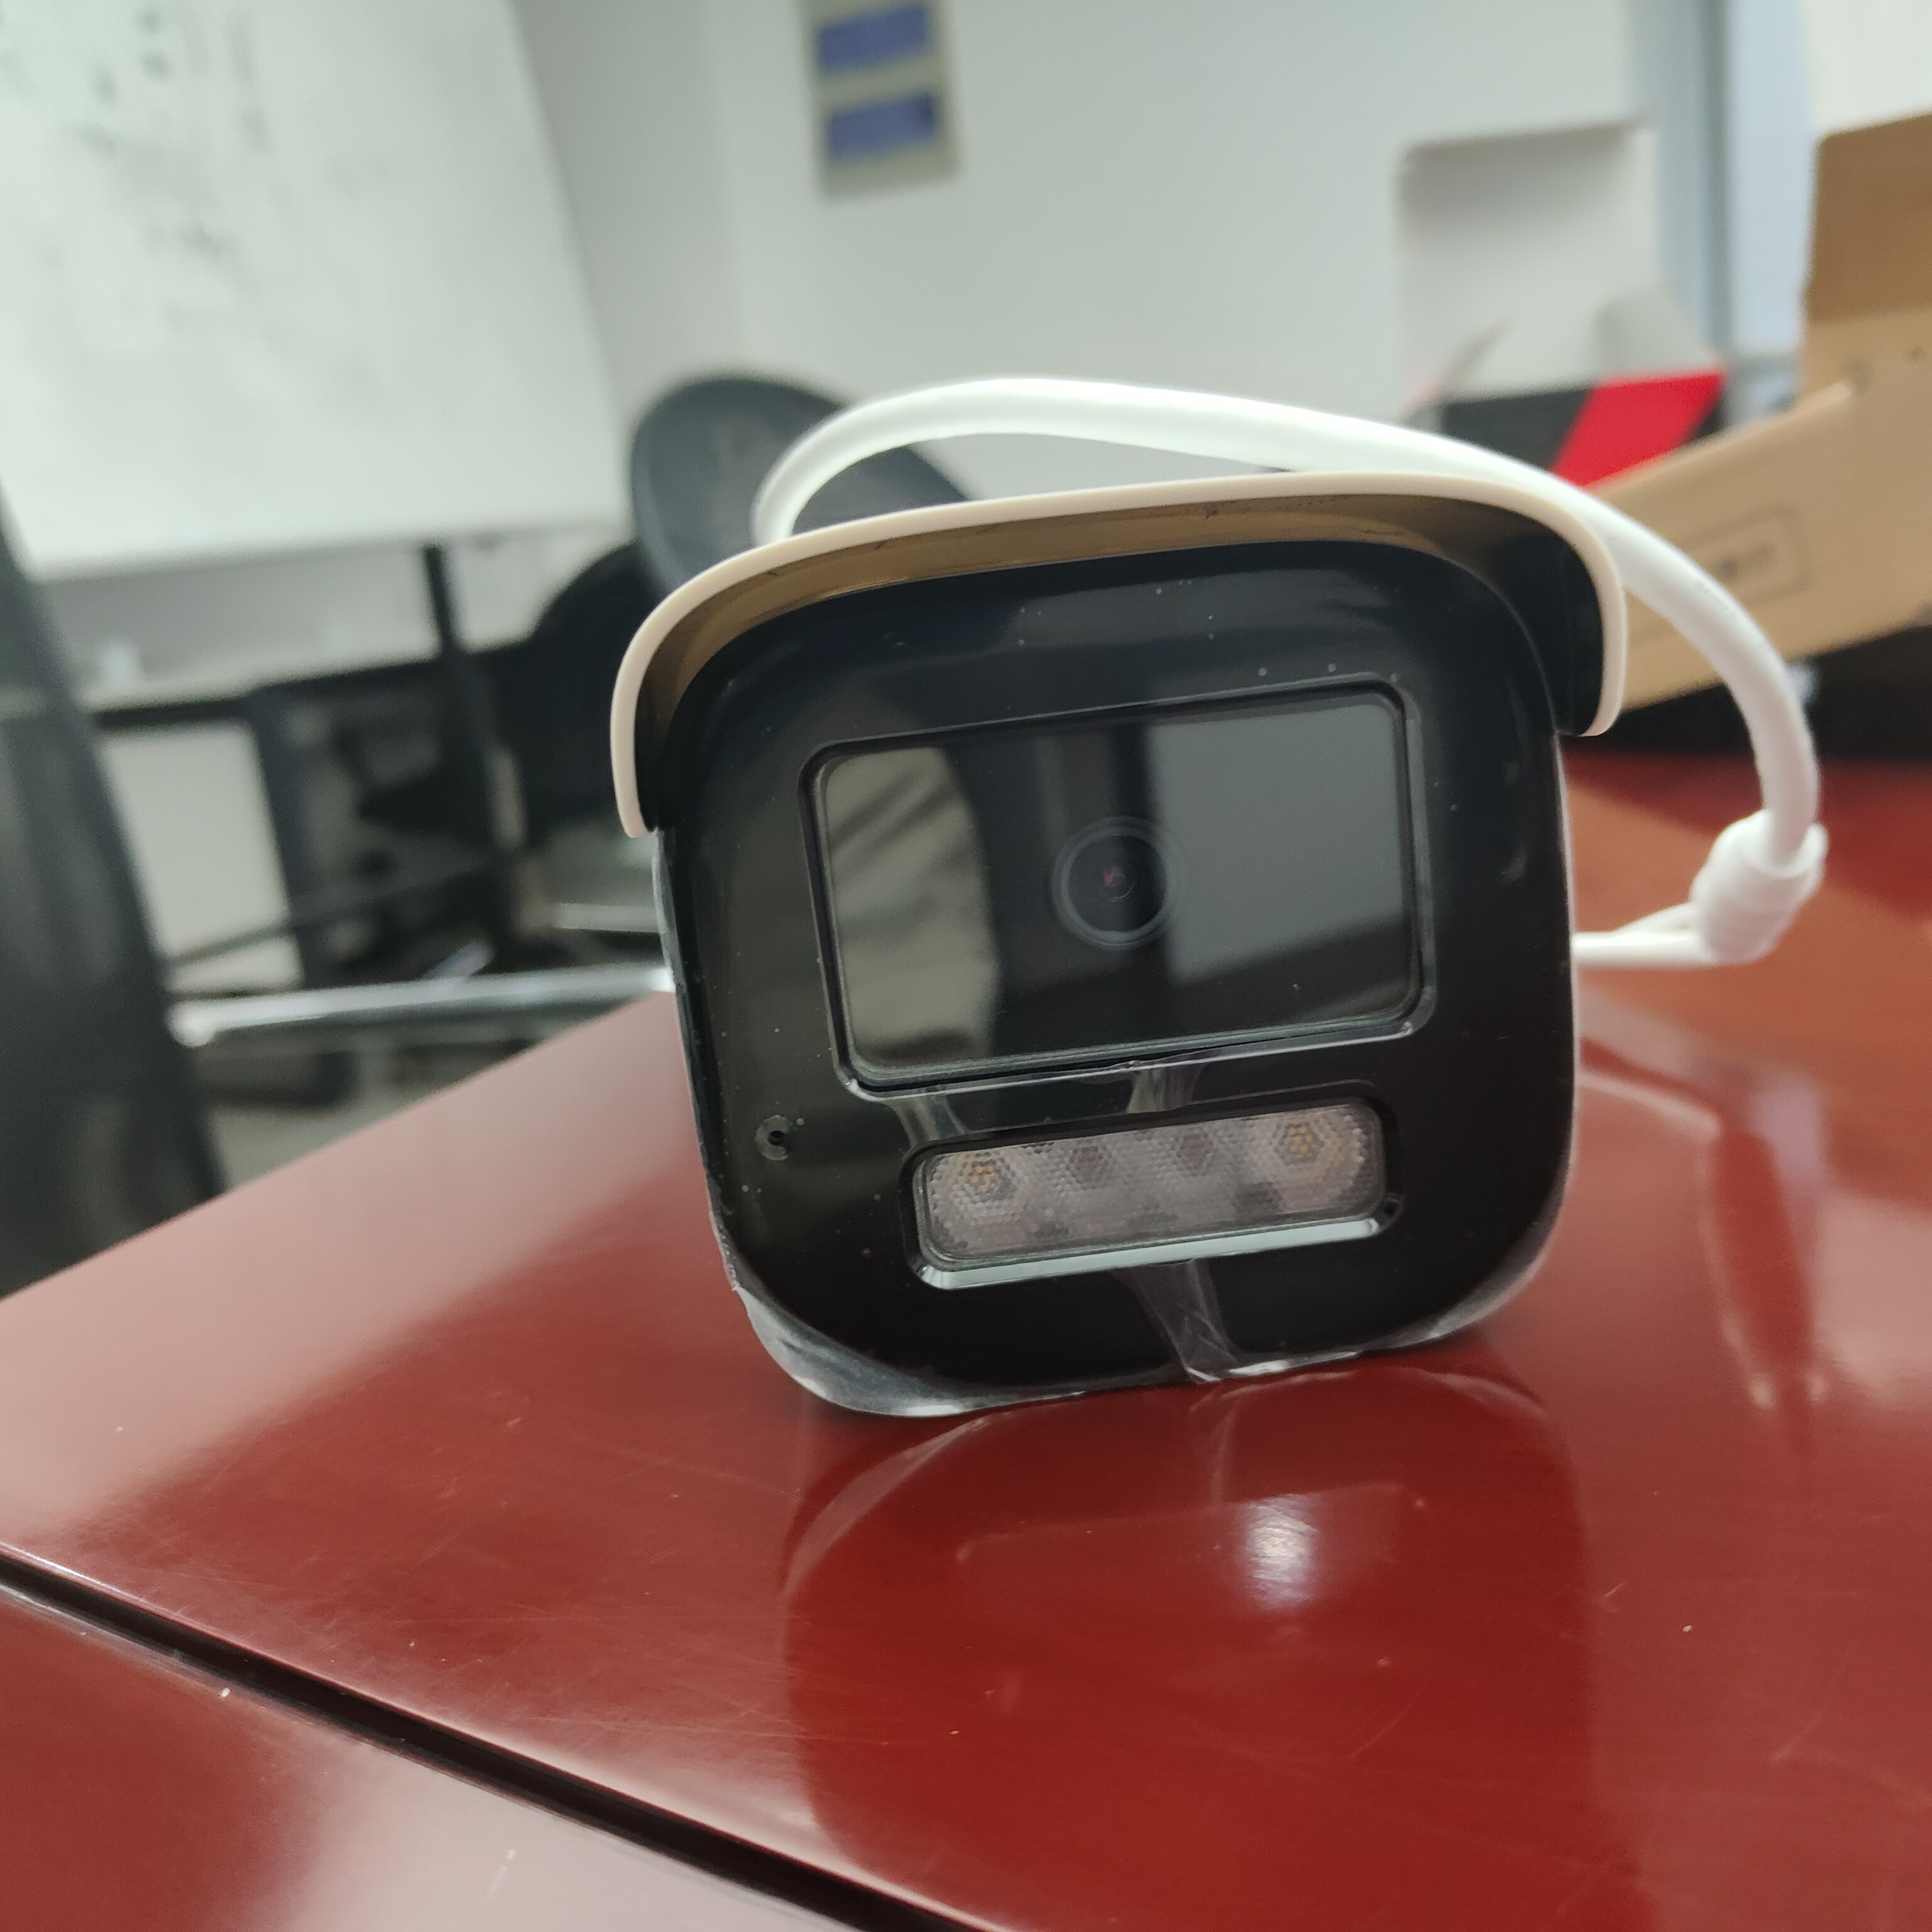hkws: (559, 377, 1704, 1465)
